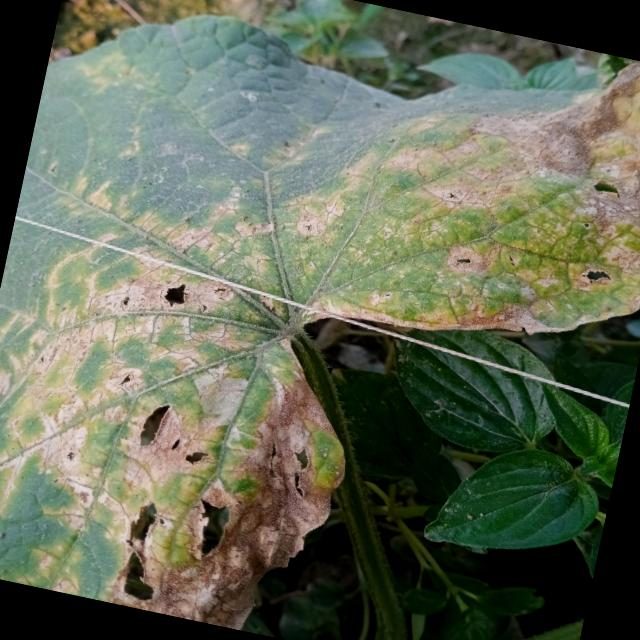cucumber_anthracnose: (74, 0, 640, 347), (0, 250, 367, 640)
